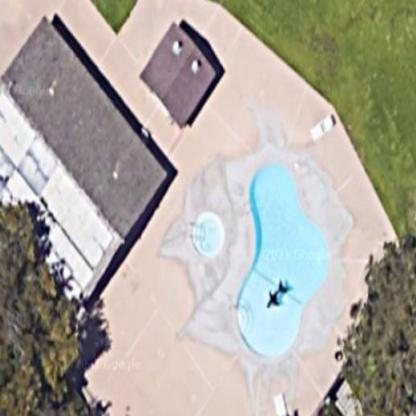pool: (220, 140, 344, 376)
